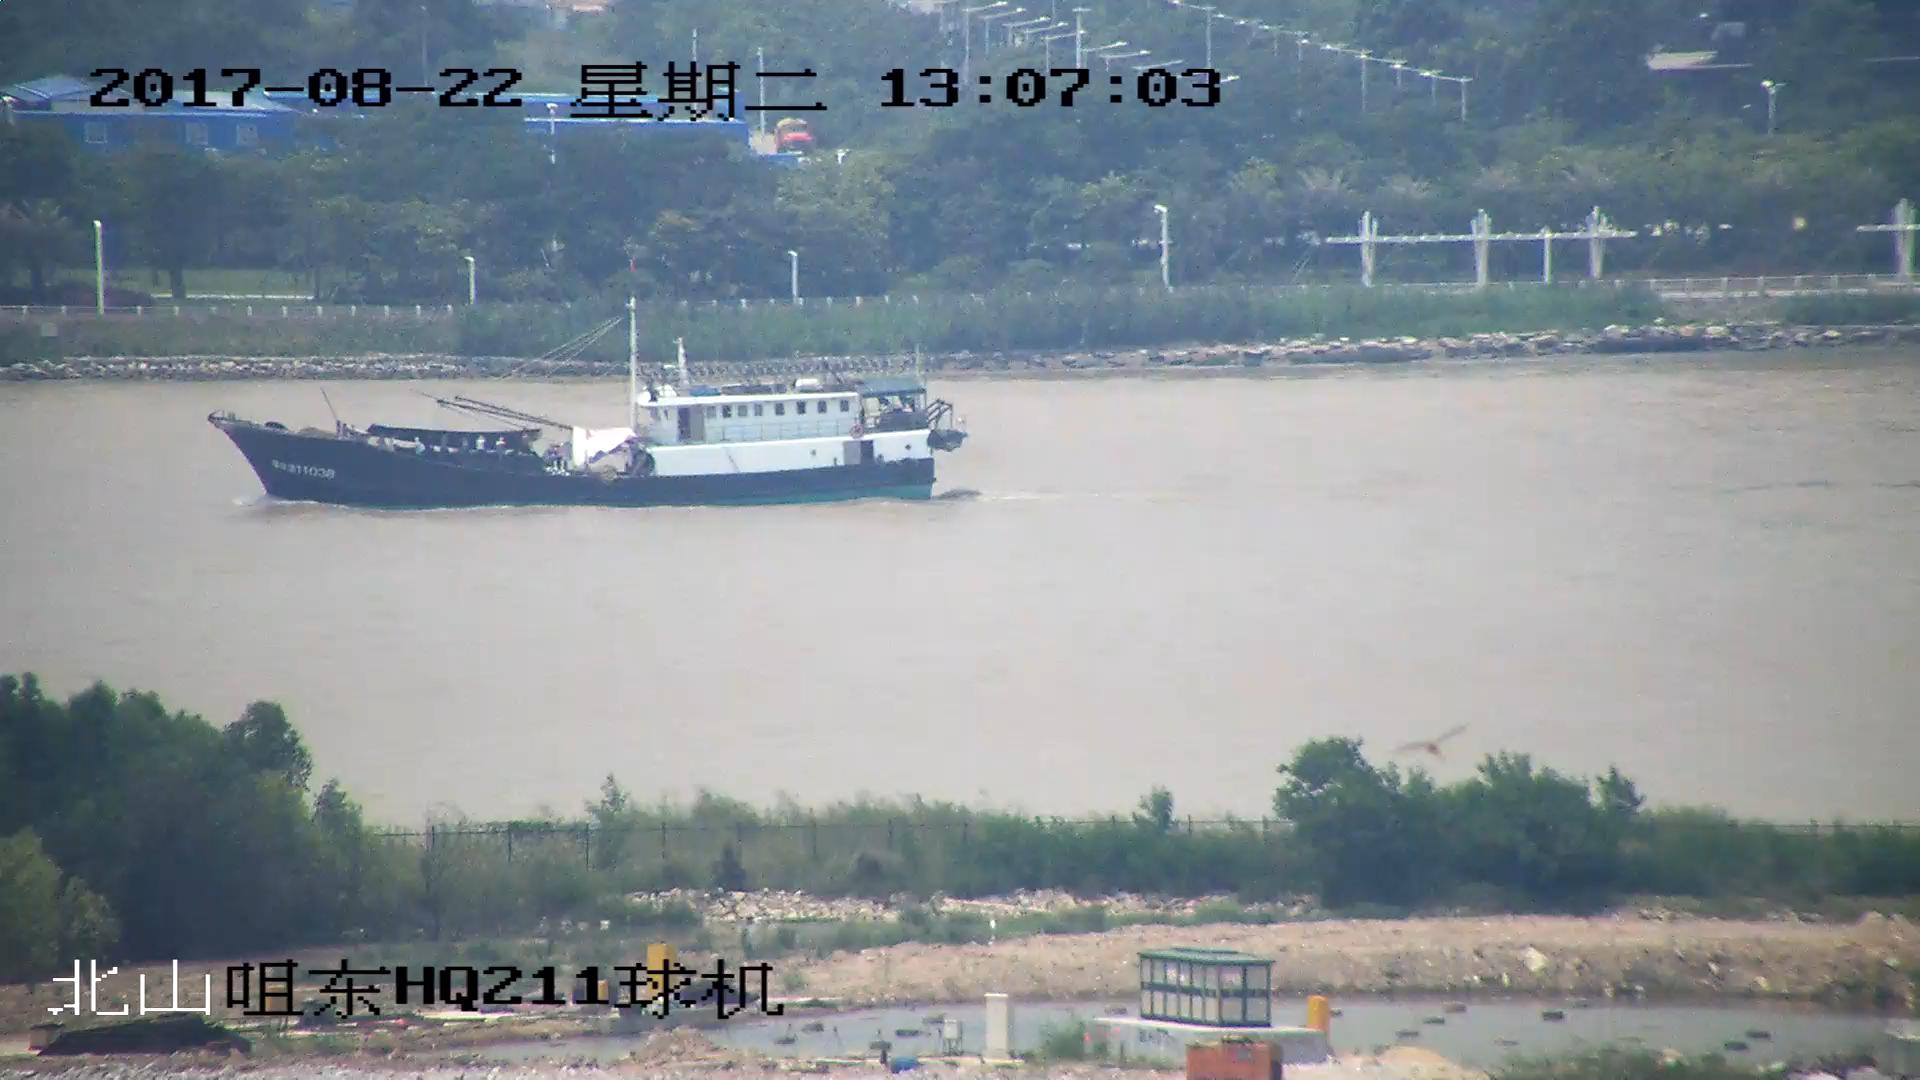fishing boat: (214, 298, 964, 515)
